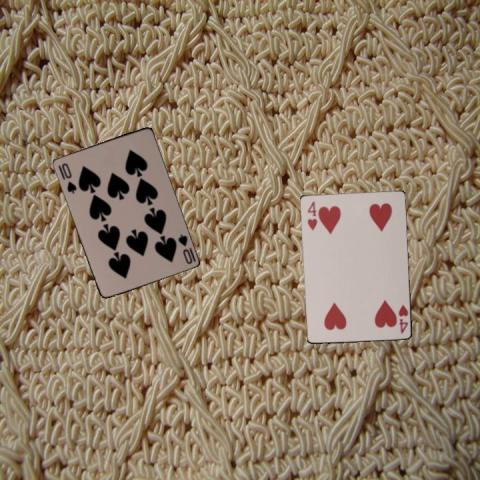10s: (175, 232, 196, 266), (59, 160, 78, 195)
4h: (395, 302, 409, 334), (304, 198, 317, 231)
